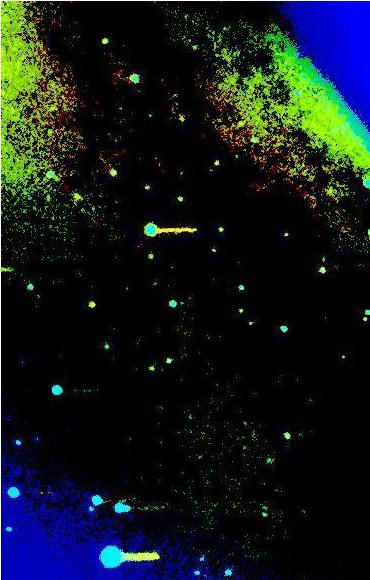star: (76, 290, 106, 320)
